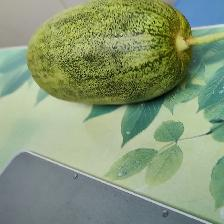gua: (21, 5, 192, 98)
